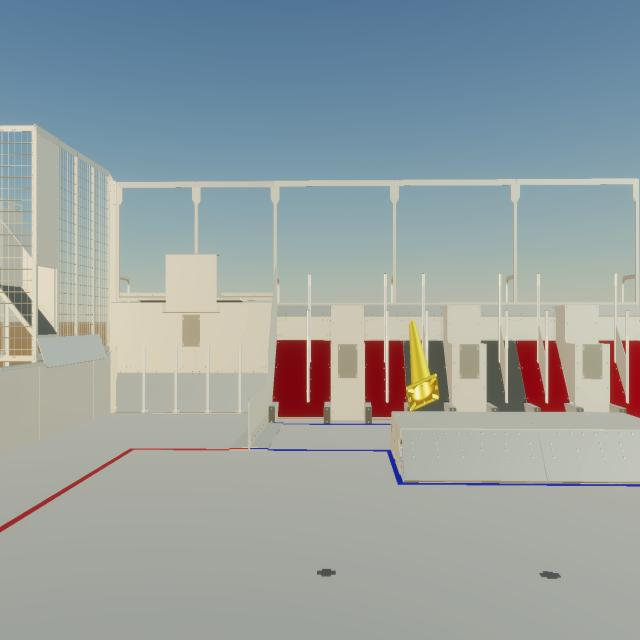frc_cone: (406, 320, 440, 412)
